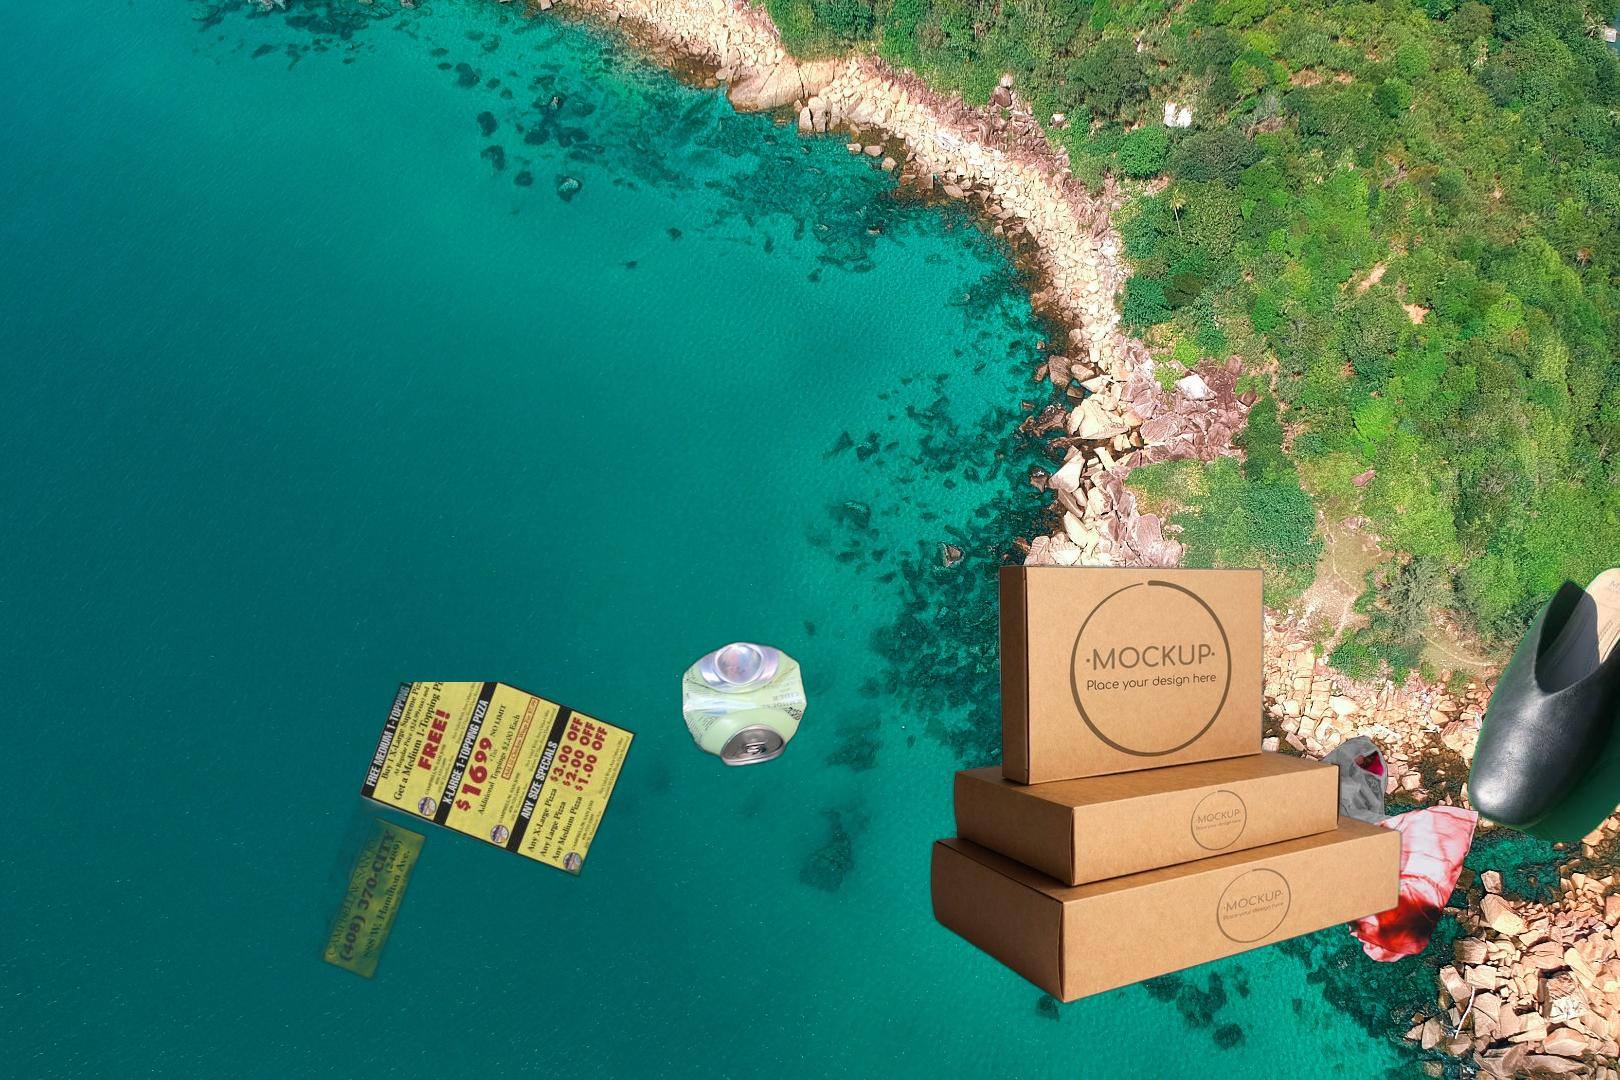metal-cans: (677, 635, 812, 773)
paper: (225, 682, 716, 1066)
plastic-bag: (1274, 733, 1483, 965)
shoes: (1465, 562, 1620, 953)
trashbox-cardboard: (925, 560, 1407, 1008), (1618, 947, 1620, 1080)
